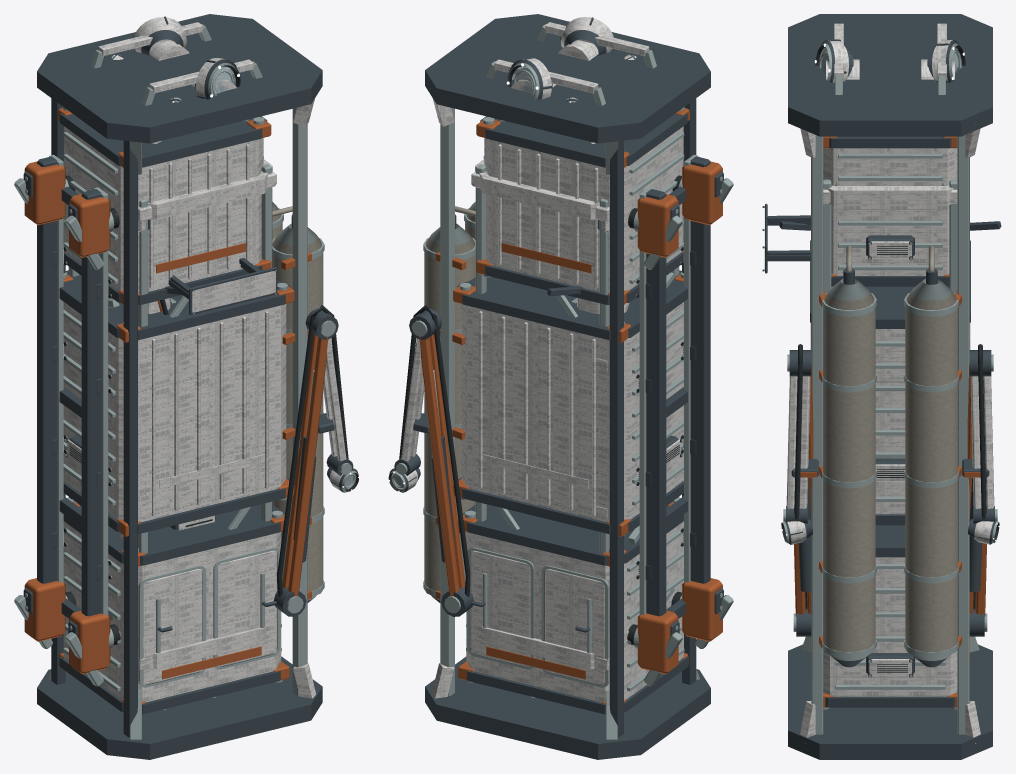
The model's file is CounterFleet.glb.
3 views of the same model, side by side, from view 1: azimuth 30°, elevation 25°; view 2: azimuth 150°, elevation 25°; view 3: azimuth 270°, elevation 25° (orthographic).
Visible parts, largest first — view 1: counter_freight_carrier, counter_common_bogie, counter_inspection_tender; view 2: counter_freight_carrier, counter_common_bogie, counter_inspection_tender; view 3: counter_freight_carrier, counter_inspection_tender.
Boxes of the visible parts, <box> form: counter_freight_carrier: <box>37,14,324,759</box>; counter_common_bogie: <box>14,154,120,686</box>; counter_inspection_tender: <box>68,16,359,709</box>; counter_freight_carrier: <box>423,14,710,759</box>; counter_common_bogie: <box>627,154,733,686</box>; counter_inspection_tender: <box>388,17,679,709</box>; counter_freight_carrier: <box>762,14,992,759</box>; counter_inspection_tender: <box>767,39,1001,636</box>.
Bounding box in the file's own units: 3.34 × 8.06 × 2.55.
Materials: 12 (6 with a texture image).
